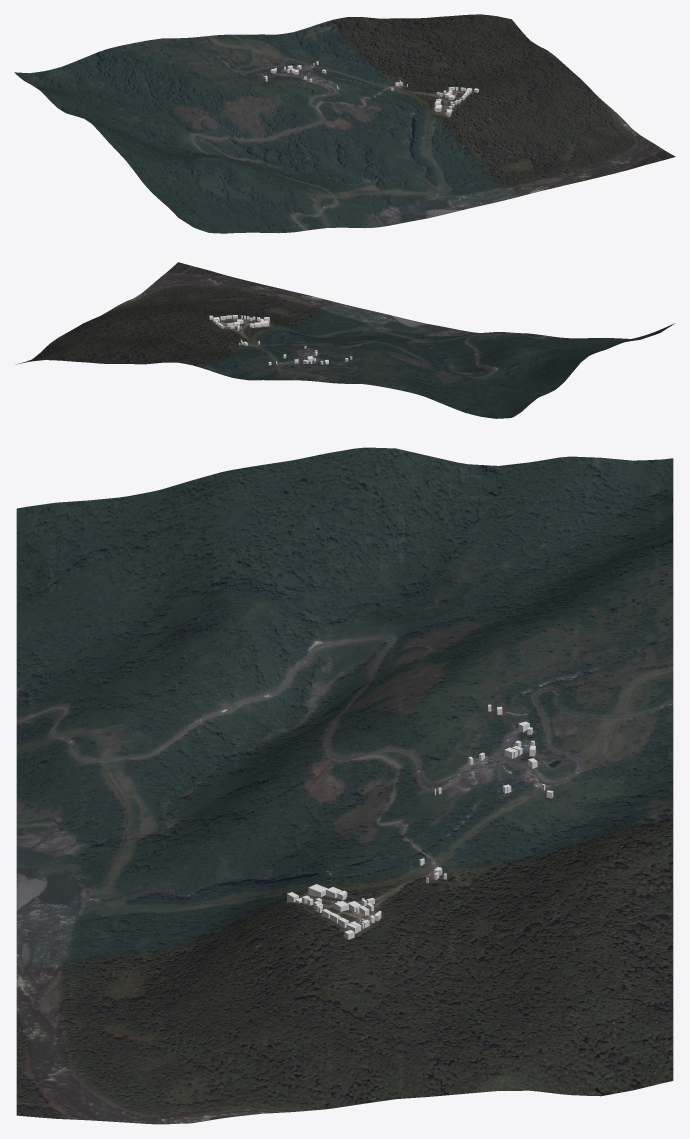
File: hosteria_reventador.dae
3 views of the same model, one above another, from view 1: azimuth 30°, elevation 25°; view 2: azimuth 150°, elevation 25°; view 3: azimuth 270°, elevation 25° (orthographic). The views are drawn at different scales.
Parts seen in each view (by area): view 1: Areas:building; view 2: Areas:building; view 3: Areas:building.
Boxes of the visible parts, x1=… form: Areas:building: x1=14, y1=14, x2=675, y2=233; Areas:building: x1=16, y1=262, x2=674, y2=418; Areas:building: x1=16, y1=447, x2=673, y2=1124.
Bounding box in the file's own units: 2140 × 1223 × 393.
1 material, 1 textured.
